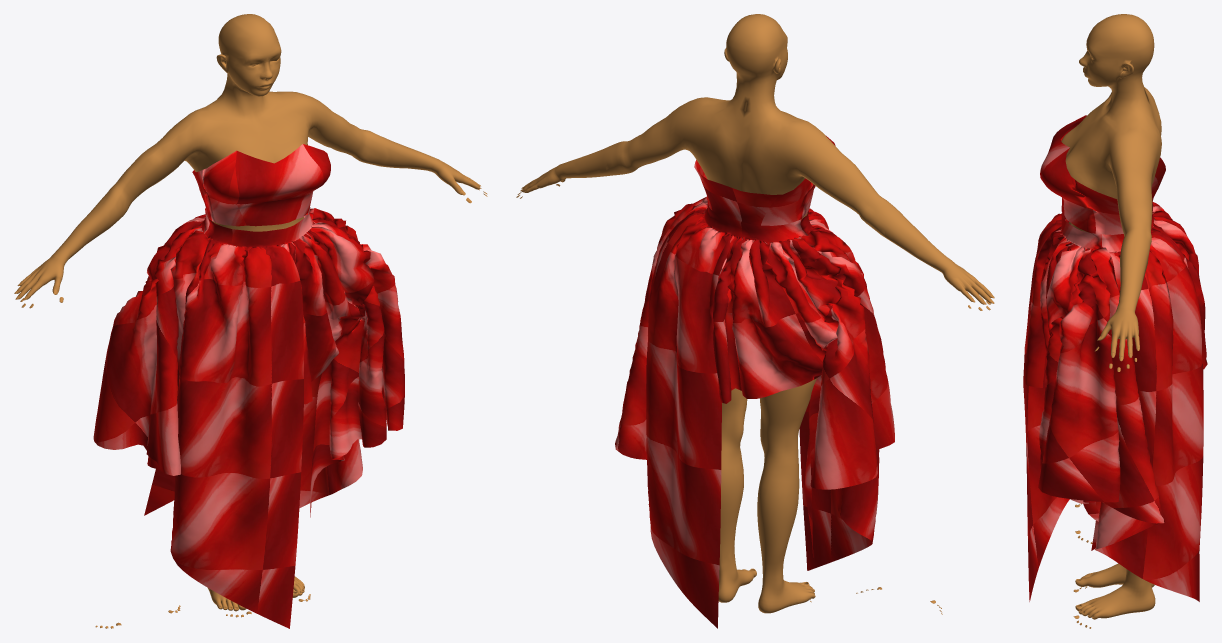
The model's file is dress2.glb.
3 views of the same model, side by side, from view 1: azimuth 30°, elevation 25°; view 2: azimuth 150°, elevation 25°; view 3: azimuth 270°, elevation 25° (orthographic).
Parts seen in each view (by area): view 1: Project 1, Body.003; view 2: Project 1, Body.003; view 3: Project 1, Body.003.
Part boxes in pixels (<box>): Project 1: <box>93,144,404,628</box>; Body.003: <box>16,14,480,611</box>; Project 1: <box>615,136,894,628</box>; Body.003: <box>521,14,991,613</box>; Project 1: <box>1023,115,1207,601</box>; Body.003: <box>1061,14,1161,619</box>.
Bounding box in the file's own units: 1.59 × 1.87 × 0.5302.
4 materials, 1 textured.
